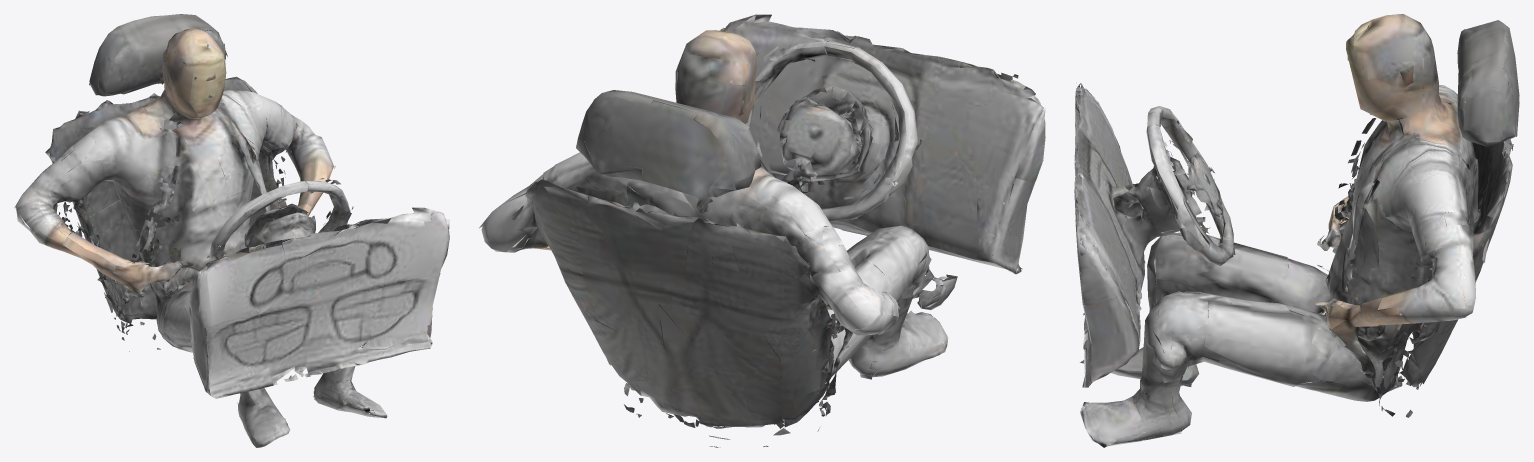
The model's file is accidente.glb.
3 views of the same model, side by side, from view 1: azimuth 30°, elevation 25°; view 2: azimuth 150°, elevation 25°; view 3: azimuth 270°, elevation 25° (orthographic). The views are drawn at different scales.
Visible parts, largest first — view 1: Accidente; view 2: Accidente; view 3: Accidente.
Boxes of the visible parts, left/top/right/bottom form: Accidente: left=14, top=14, right=449, bottom=447; Accidente: left=479, top=14, right=1045, bottom=447; Accidente: left=1074, top=14, right=1519, bottom=447.
Bounding box in the file's own units: 1.91 × 1.91 × 1.98.
1 material, 1 textured.
